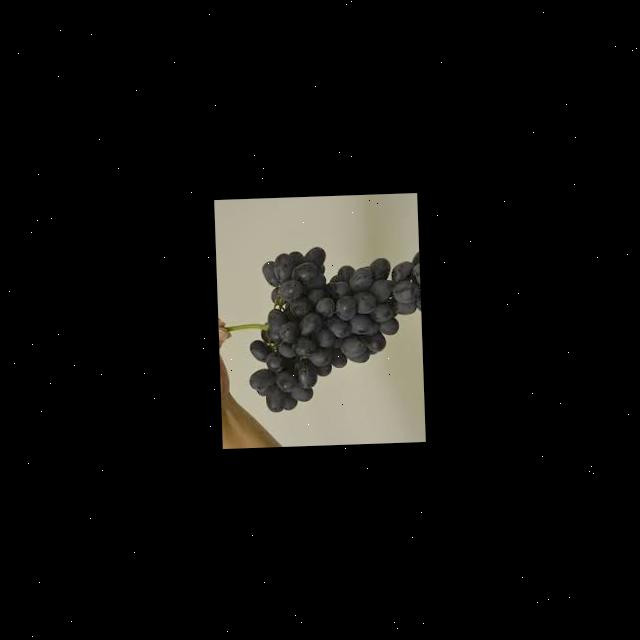grape: (242, 241, 423, 412)
